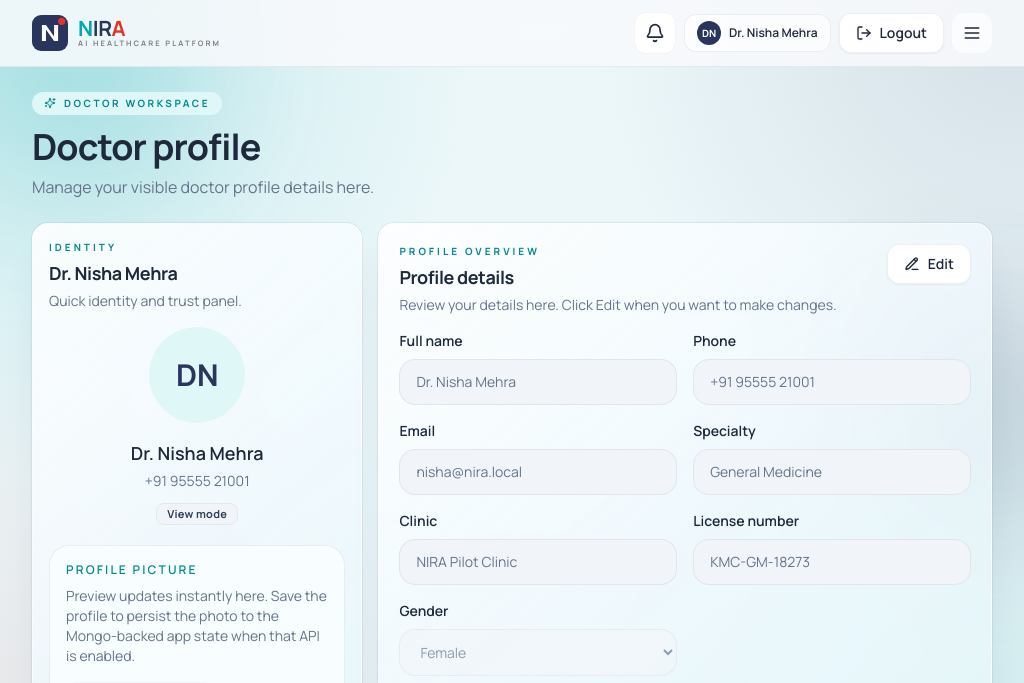
Scenario: profile page starts in view mode and only unlocks fields after edit
The image size is (1024, 683).
Expected: the field labelled "Full name" is disabled, [399,358,677,404]
Expected: the button "save profile" is not shown
Click the button "Edit" at coordinates (929, 264), box [887,244,971,284]
(page scrolled)
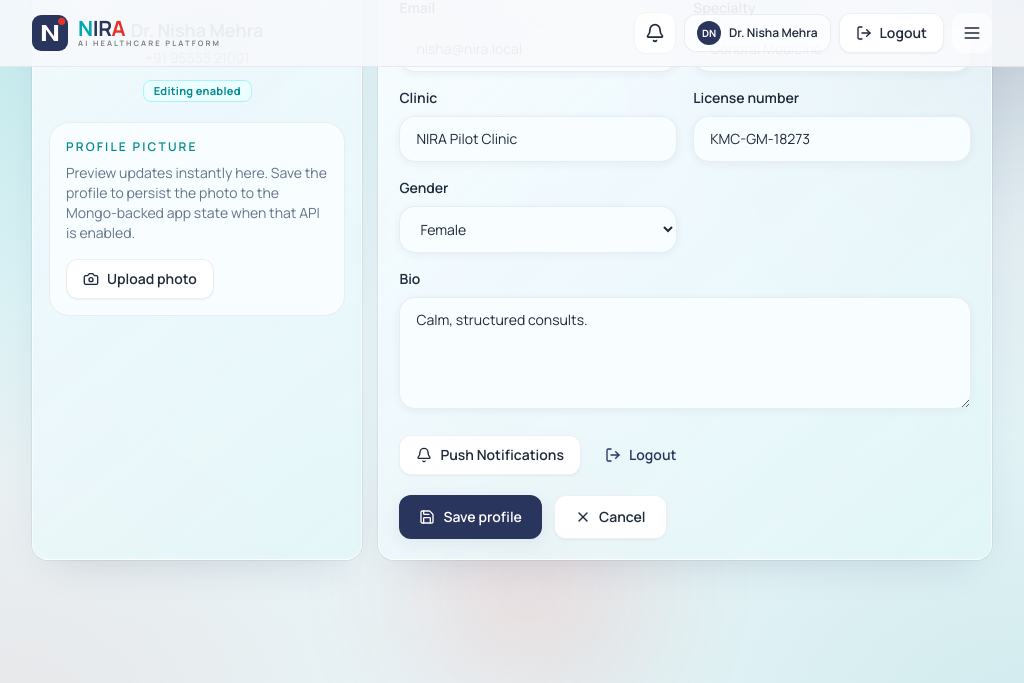
Expected: the button "Save profile" is shown, [399,494,542,538]
Expected: the button "Cancel" is shown, [554,494,666,538]
